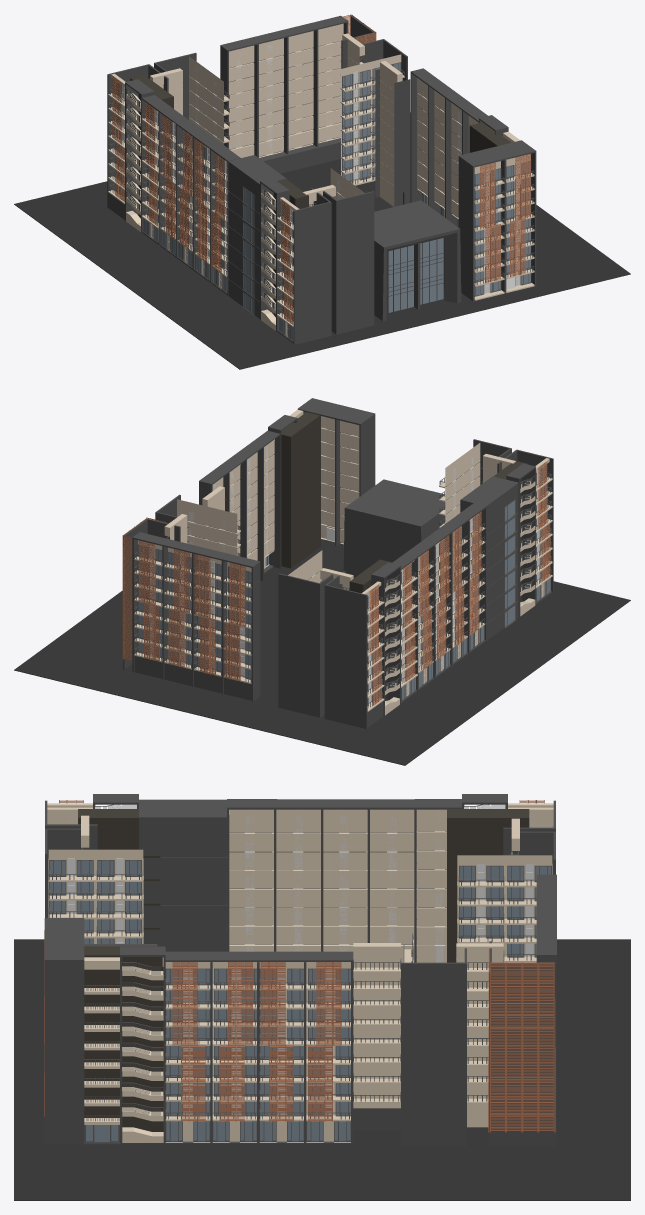
Rendered from ohostel.glb.
3 renders of one model, top to bottom at view 1: azimuth 30°, elevation 25°; view 2: azimuth 150°, elevation 25°; view 3: azimuth 270°, elevation 25°, orthographic. The views are drawn at different scales.
Parts seen in each view (by area): view 1: Plane.025, Cube.124, Cube.125, Cube.139, Cube.003, Cube.137, Cube.013, Cube.102, Cube.103, Plane.316, Cube.042, Cube.136 (+54 smaller); view 2: Plane.025, Cube.139, Cube.082, Cube.083, Cube.060, Cube.137, Cube.067, Cube.068, Cube.066, Cube.103, Cube.102, Cube.003 (+32 smaller); view 3: Plane.025, Cube.137, Cube.046, Cube.057, Cube.006, Cube.003, Cube.060, Cube.004, Cube.005, Cube.110, Plane.314, Cube.042 (+76 smaller).
Part boxes in pixels (bbox=[...]): Plane.025: bbox=[14, 112, 630, 369]; Cube.124: bbox=[323, 191, 374, 334]; Cube.125: bbox=[293, 188, 331, 344]; Cube.139: bbox=[374, 200, 461, 321]; Cube.003: bbox=[458, 140, 536, 301]; Cube.137: bbox=[228, 155, 286, 318]; Cube.013: bbox=[480, 154, 530, 283]; Cube.102: bbox=[194, 138, 224, 273]; Cube.103: bbox=[162, 115, 192, 249]; Plane.316: bbox=[394, 79, 410, 206]; Cube.042: bbox=[410, 68, 487, 202]; Cube.136: bbox=[260, 178, 289, 331]; Plane.025: bbox=[14, 539, 630, 765]; Cube.139: bbox=[343, 479, 445, 578]; Cube.082: bbox=[278, 573, 333, 717]; Cube.083: bbox=[324, 571, 367, 728]; Cube.060: bbox=[281, 412, 320, 568]; Cube.137: bbox=[460, 476, 518, 640]; Cube.067: bbox=[194, 554, 245, 681]; Cube.068: bbox=[138, 540, 189, 668]; Cube.066: bbox=[134, 532, 260, 701]; Cube.103: bbox=[419, 535, 449, 669]; Cube.102: bbox=[452, 511, 481, 646]; Cube.003: bbox=[297, 398, 375, 496]; Plane.025: bbox=[14, 939, 630, 1200]; Cube.137: bbox=[139, 799, 226, 951]; Cube.046: bbox=[401, 948, 466, 1145]; Cube.057: bbox=[490, 962, 554, 1132]; Cube.006: bbox=[489, 941, 555, 1145]; Cube.003: bbox=[44, 918, 84, 1144]; Cube.060: bbox=[84, 946, 164, 1131]; Cube.004: bbox=[260, 962, 341, 1121]; Cube.005: bbox=[172, 962, 252, 1121]; Cube.110: bbox=[447, 809, 529, 962]; Plane.314: bbox=[353, 959, 400, 1098]; Cube.042: bbox=[165, 951, 353, 1144].
Size of the model in its own units: 57.45 by 19.67 by 57.45.
